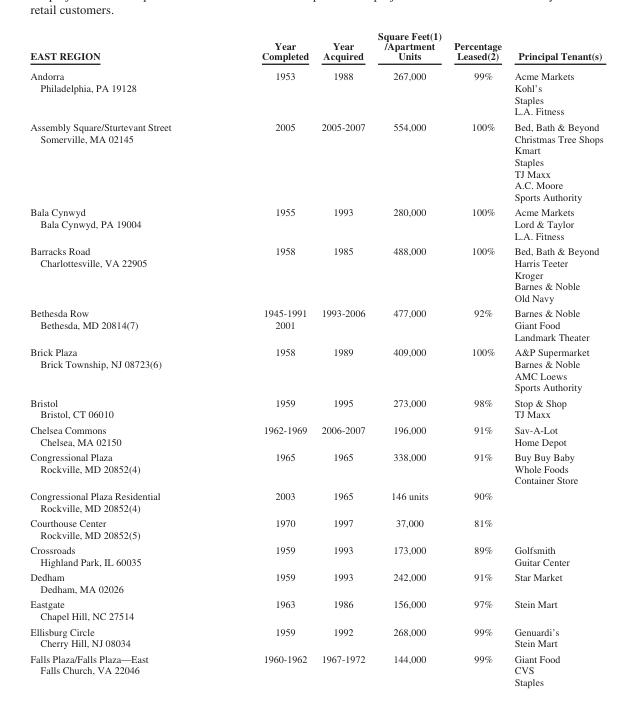table: (29, 29, 602, 687)
table column: (29, 29, 215, 687), (215, 29, 314, 687), (507, 29, 602, 687), (370, 29, 447, 687), (447, 29, 507, 687), (314, 29, 370, 687)
table column header: (29, 29, 602, 65)
table row: (29, 118, 602, 204), (29, 243, 602, 305), (29, 65, 602, 118), (29, 344, 602, 394), (29, 204, 602, 243), (29, 305, 602, 344), (29, 448, 602, 487), (29, 650, 602, 687), (29, 29, 602, 65), (29, 514, 602, 542), (29, 394, 602, 421), (29, 421, 602, 448), (29, 487, 602, 514), (29, 542, 602, 569), (29, 569, 602, 596), (29, 596, 602, 623), (29, 623, 602, 650)
